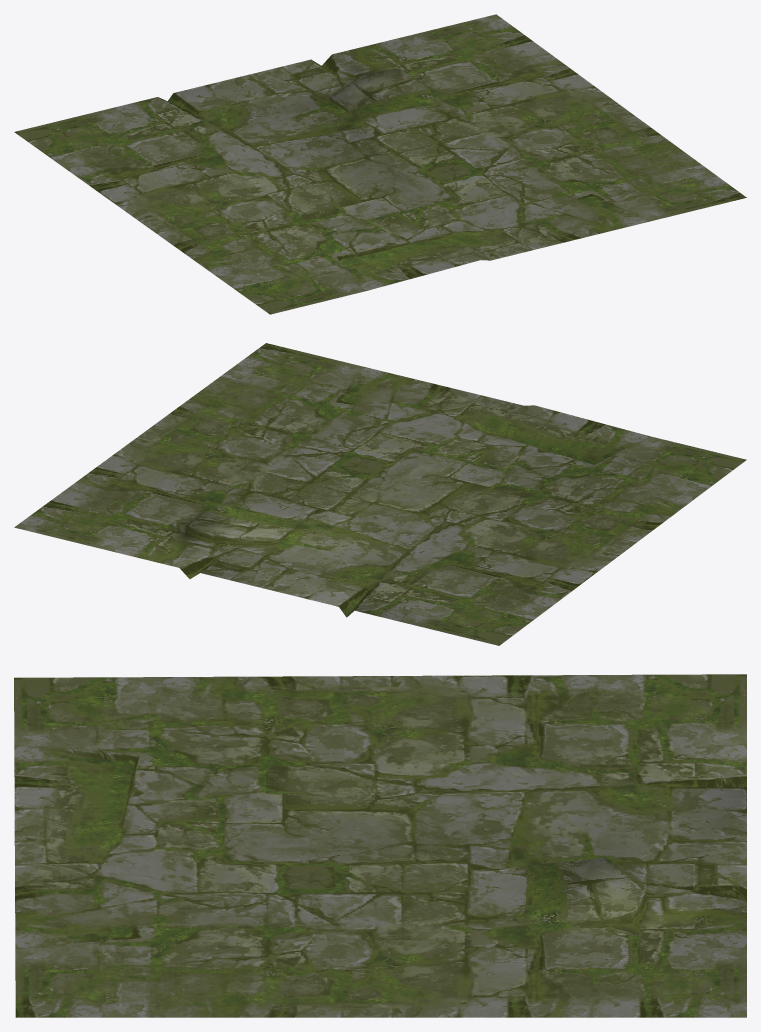
The model's file is yj_dimian_1.FBX.
3 views of the same model, one above another, from view 1: azimuth 30°, elevation 25°; view 2: azimuth 150°, elevation 25°; view 3: azimuth 270°, elevation 25° (orthographic). The views are drawn at different scales.
Parts seen in each view (by area): view 1: yj_dimian_1; view 2: yj_dimian_1; view 3: yj_dimian_1.
Boxes of the visible parts, x1,y1,x2,y2 form: yj_dimian_1: [14, 14, 746, 314]; yj_dimian_1: [14, 343, 746, 645]; yj_dimian_1: [14, 674, 746, 1017].
Size of the model in its own units: 765 by 24.25 by 690.
